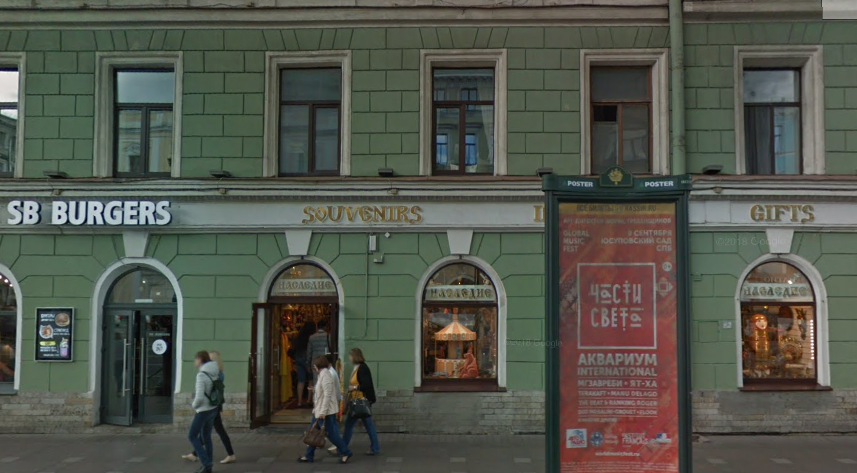door: (254, 297, 335, 432), (106, 307, 175, 427)
signboard: (6, 197, 175, 232), (295, 197, 433, 229), (747, 199, 818, 231)
window: (432, 62, 495, 173), (588, 68, 651, 175), (744, 66, 806, 174), (279, 64, 339, 175), (421, 303, 500, 387), (741, 298, 816, 382), (114, 67, 172, 173)
